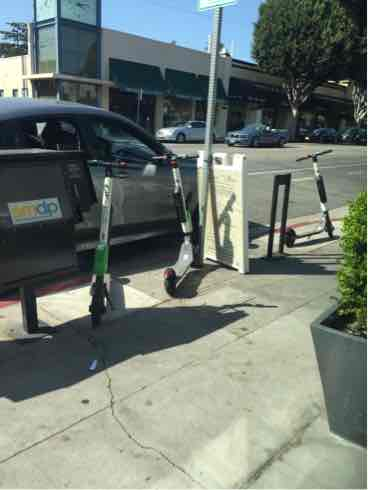scooter: (270, 144, 342, 259)
